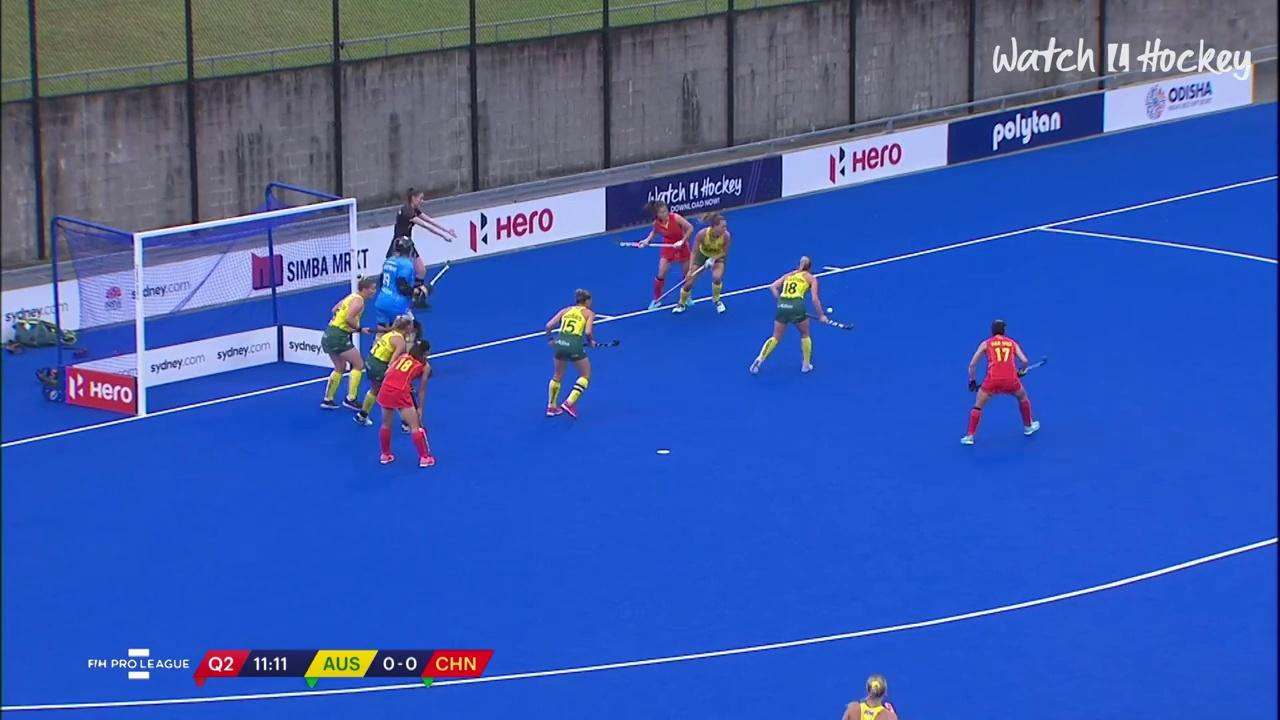ball: (822, 301, 834, 320)
